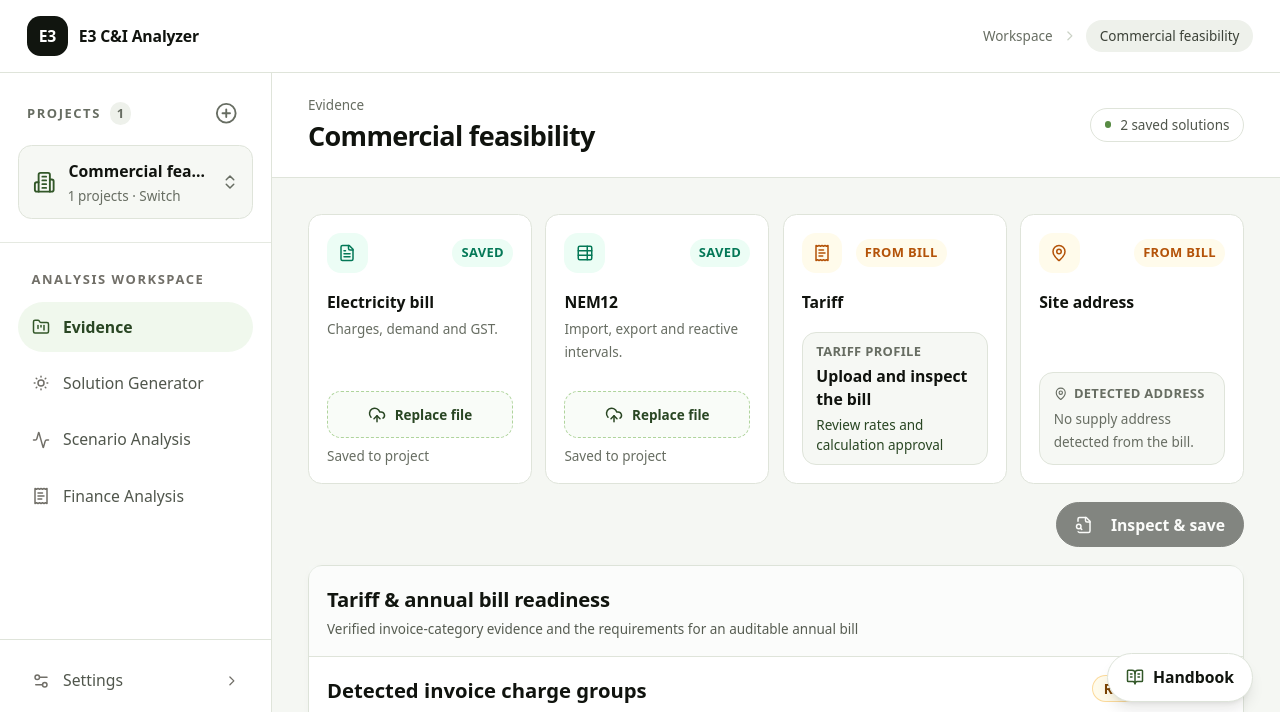
Test: C&I project workspace › opens the saved Solution Generator from Finance equipment profiles without regenerating implicitly
Expected: the element named "Evidence sources" is shown, [308,214,1244,484]
Click the button "Finance Analysis".
click(136, 496)  # box [18,471,253,521]
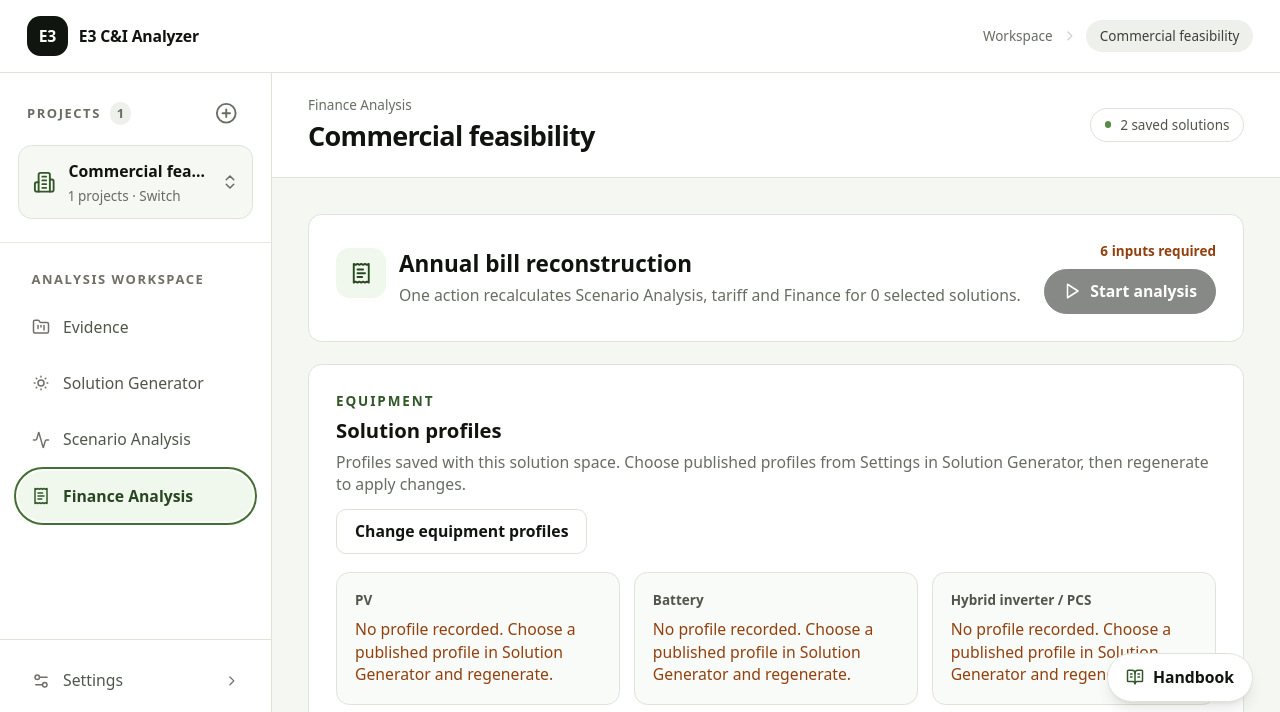
Click the button "Change equipment profiles".
click(462, 532)  # box [336,509,588,554]
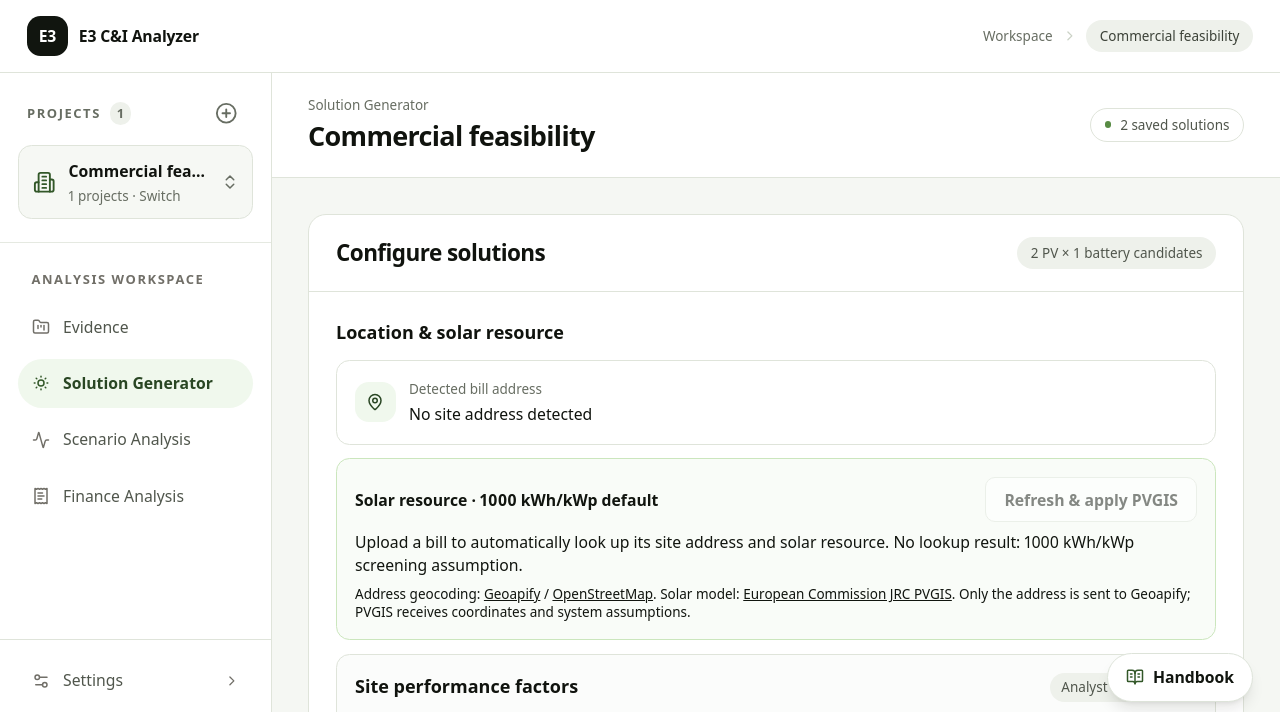
Now the heading "Configure solutions" is shown, box [336,237,545,268]
